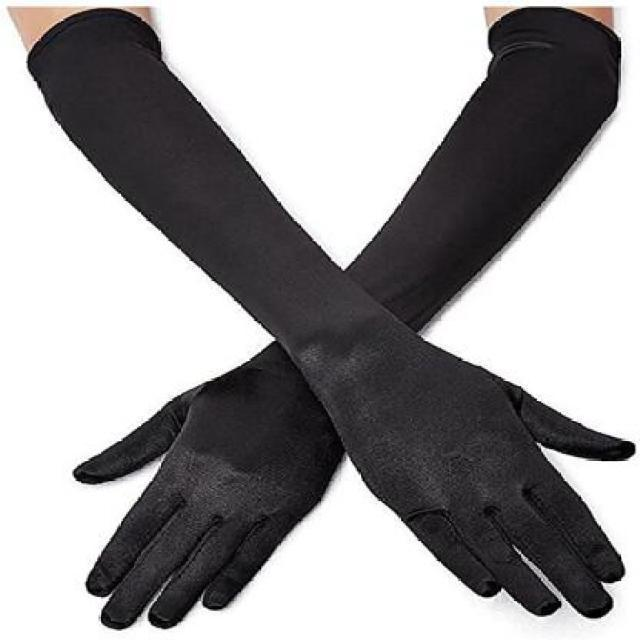glove: (233, 239, 632, 627), (69, 352, 336, 639)
